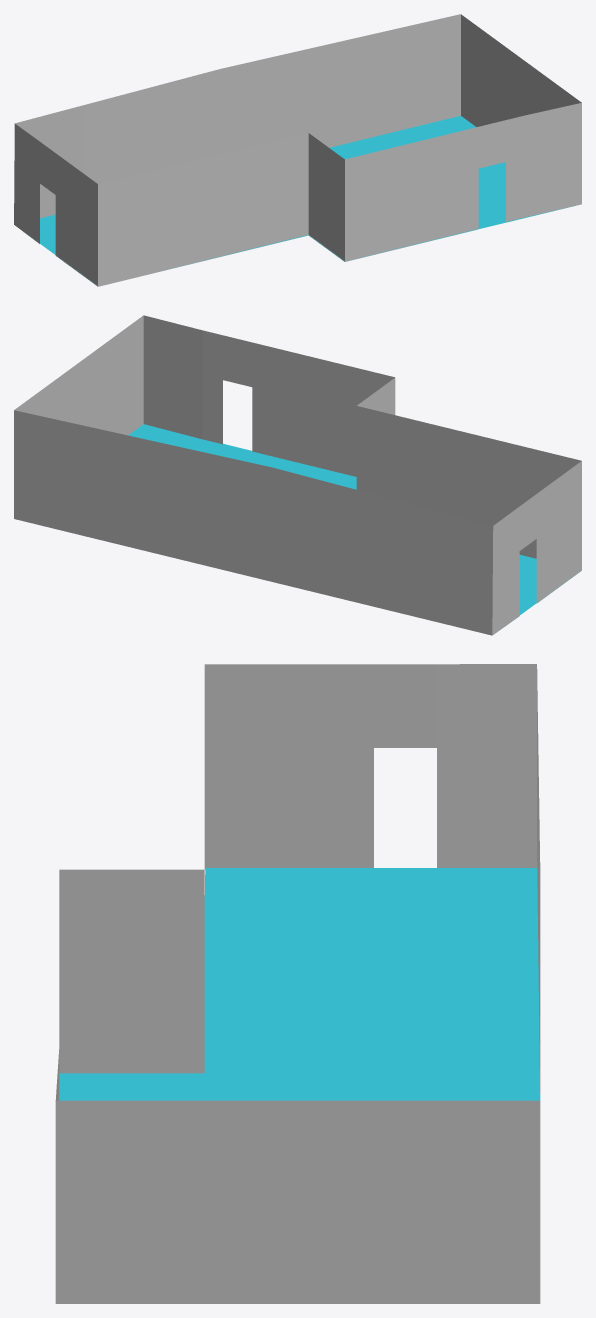
The model's file is real_wall.fbx.
The picture shows the model from 3 angles, top to bottom: view 1: azimuth 30°, elevation 25°; view 2: azimuth 150°, elevation 25°; view 3: azimuth 270°, elevation 25°; orthographic projection. The views are drawn at different scales.
Visible parts, largest first — view 1: Cube.004; view 2: Cube.004; view 3: Cube.004.
Part boxes in pixels (x1=…): Cube.004: x1=14, y1=14, x2=581, y2=286; Cube.004: x1=14, y1=315, x2=581, y2=635; Cube.004: x1=55, y1=664, x2=540, y2=1303.
Bounding box in the file's own units: 1539 × 352 × 722.
